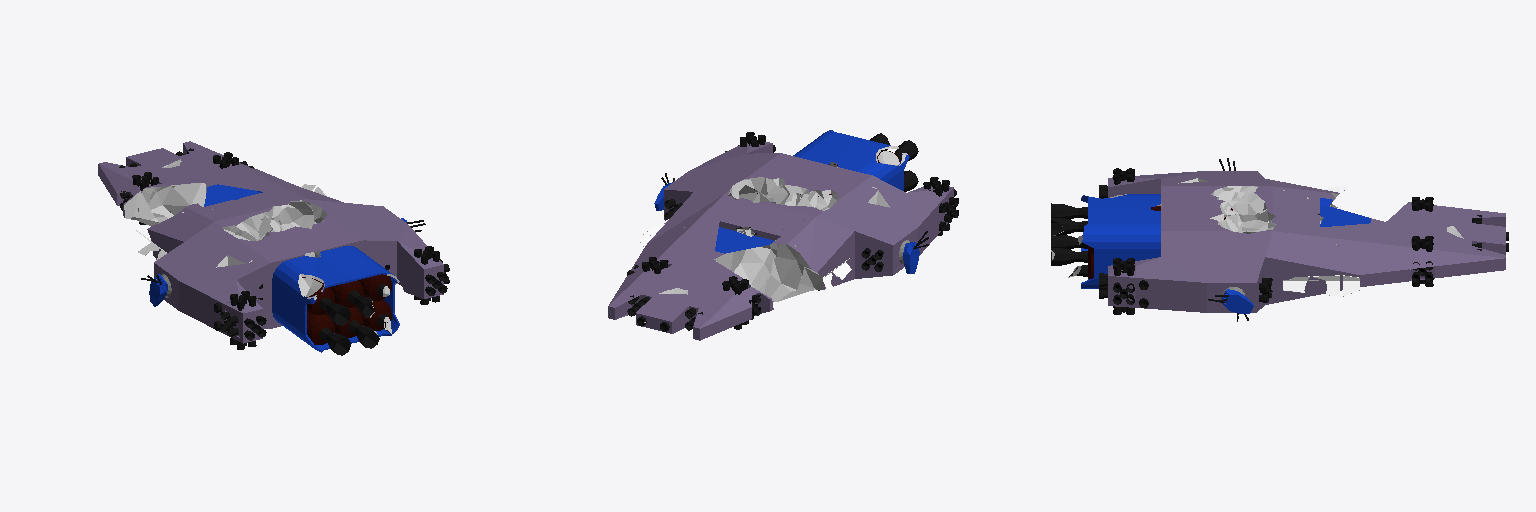
The model's file is CruiserlightlyWreckUpadated.obj.
3 views of the same model, side by side, from view 1: azimuth 30°, elevation 25°; view 2: azimuth 150°, elevation 25°; view 3: azimuth 270°, elevation 25° (orthographic).
Parts seen in each view (by area): view 1: Cube; view 2: Cube; view 3: Cube.
Part boxes in pixels (left/top/right/bottom): Cube: left=98, top=141, right=449, bottom=355; Cube: left=608, top=130, right=958, bottom=340; Cube: left=1051, top=158, right=1508, bottom=321.
Bounding box in the file's own units: 96.1 × 32.22 × 138.